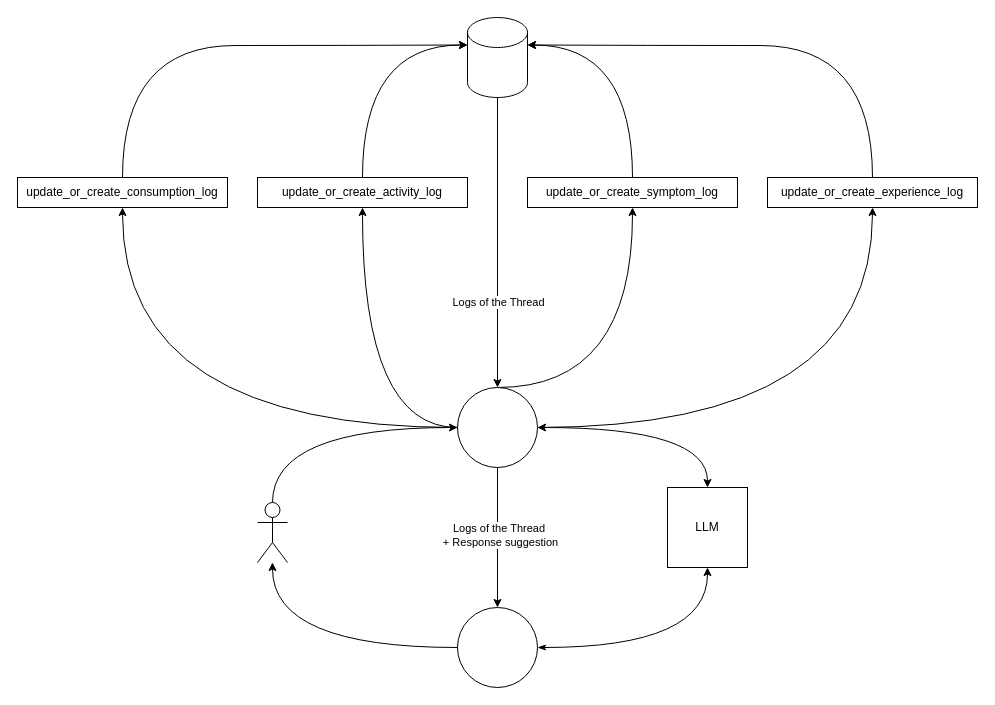
This 995x705 diagram has some shape labels left out. The shapes that lost their labels are listed below. From the top down, each one's box as (x1, y1, x2, y2) in pixels, then its label:
(466, 16, 528, 98): pgDB
(456, 386, 538, 468): Task Manager
(456, 606, 538, 688): Response generator
